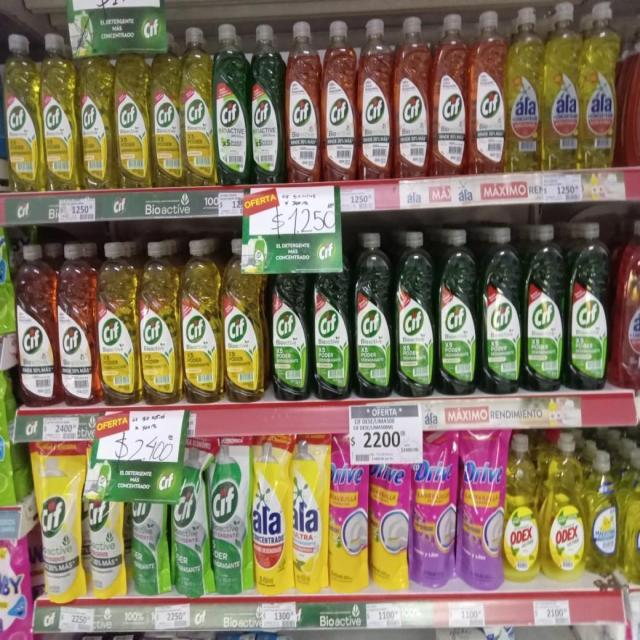ala_conc_amarillo: (580, 0, 618, 170), (543, 1, 580, 173), (507, 6, 542, 174)
ala_conc_rojo: (614, 215, 640, 392), (626, 7, 640, 168)
ala_sachet_amarillo: (252, 433, 290, 595), (292, 434, 328, 594)
cif_conc_bot_amarilla: (223, 238, 266, 402), (98, 240, 138, 405), (181, 238, 221, 402), (140, 239, 179, 404), (5, 32, 41, 193), (42, 30, 77, 192), (115, 36, 150, 189), (79, 34, 113, 191), (181, 26, 213, 187), (151, 28, 181, 188)
cif_conc_botella_roja: (16, 242, 56, 409), (468, 8, 506, 176), (58, 241, 96, 408), (394, 14, 430, 180), (432, 11, 467, 179), (358, 16, 393, 182), (286, 19, 320, 184), (322, 18, 356, 182)
cif_conc_botella_verde: (568, 220, 610, 391), (524, 222, 565, 393), (481, 224, 522, 394), (438, 227, 478, 396), (353, 230, 393, 399), (395, 229, 435, 398), (312, 235, 351, 400), (270, 243, 310, 402), (214, 22, 249, 186), (250, 22, 284, 185)
cif_conc_sachet_amarillo: (36, 438, 82, 603)
cif_conc_sachet_verde: (210, 435, 250, 596), (172, 437, 209, 598)
drive: (413, 429, 457, 592), (459, 428, 503, 590), (329, 433, 368, 594), (370, 444, 410, 592)
magistral_con_amarillo: (586, 449, 622, 578), (625, 450, 640, 586)
odex: (543, 433, 585, 581), (504, 431, 540, 585)
